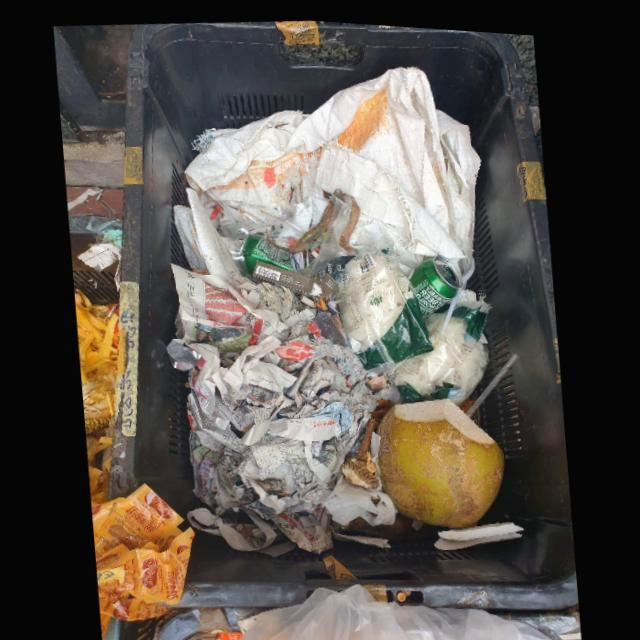aluminum: (407, 248, 463, 313), (242, 230, 293, 270)
cardboard: (253, 256, 340, 294)
paper: (167, 262, 377, 554)
